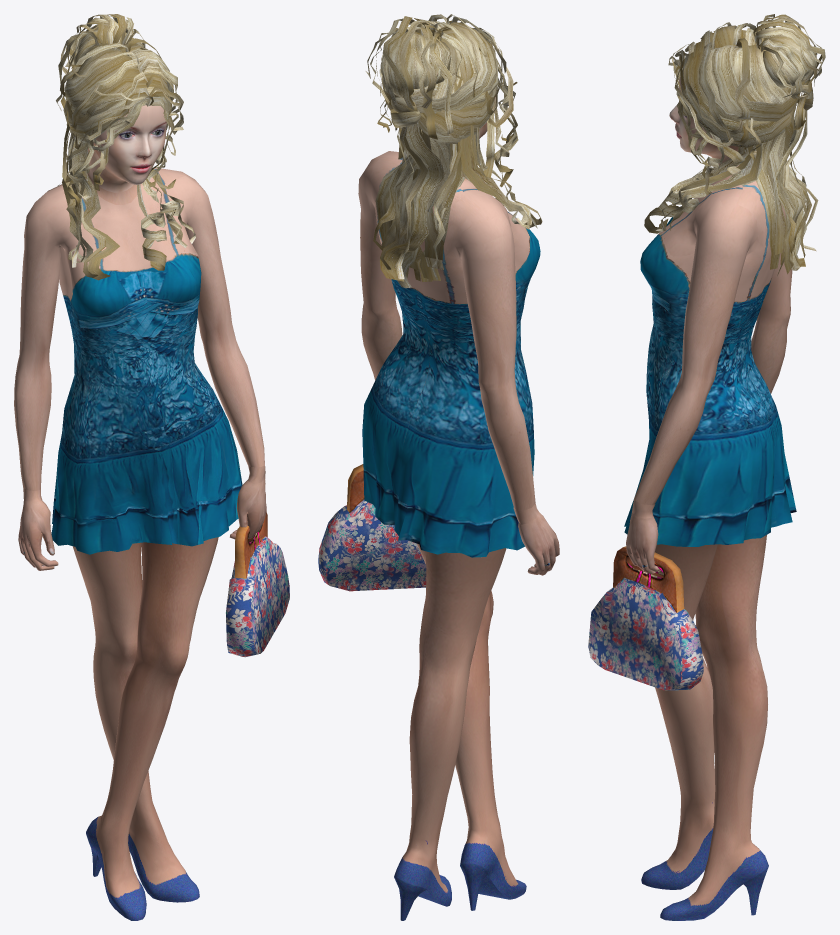
3 renders of one model, left to right at view 1: azimuth 30°, elevation 25°; view 2: azimuth 150°, elevation 25°; view 3: azimuth 270°, elevation 25°, orthographic. The views are drawn at different scales.
Parts seen in each view (by area): view 1: UA_Female12_1; view 2: UA_Female12_1; view 3: UA_Female12_1.
Part boxes in pixels (<box>): UA_Female12_1: <box>14,14,289,920</box>; UA_Female12_1: <box>318,14,559,920</box>; UA_Female12_1: <box>588,14,825,920</box>.
Bounding box in the file's own units: 53.8 × 181 × 43.93.
Materials: 4 (4 with a texture image).
